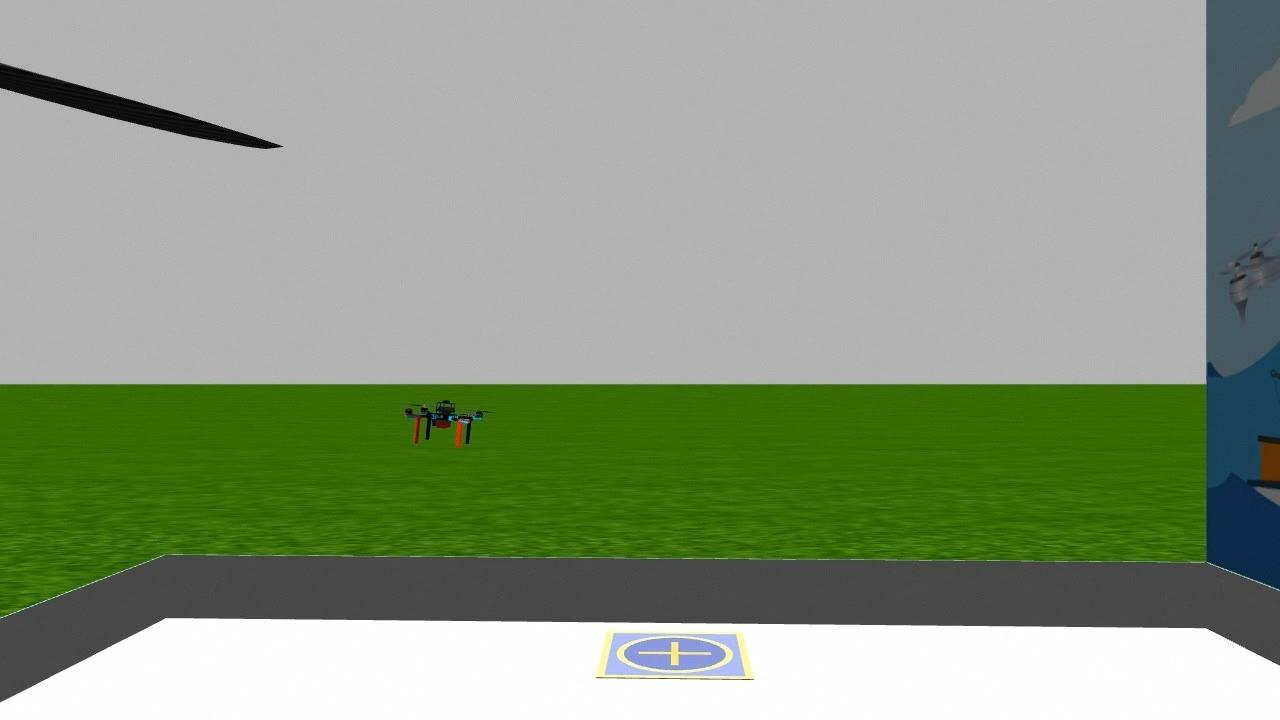UAV: (396, 380, 491, 461)
